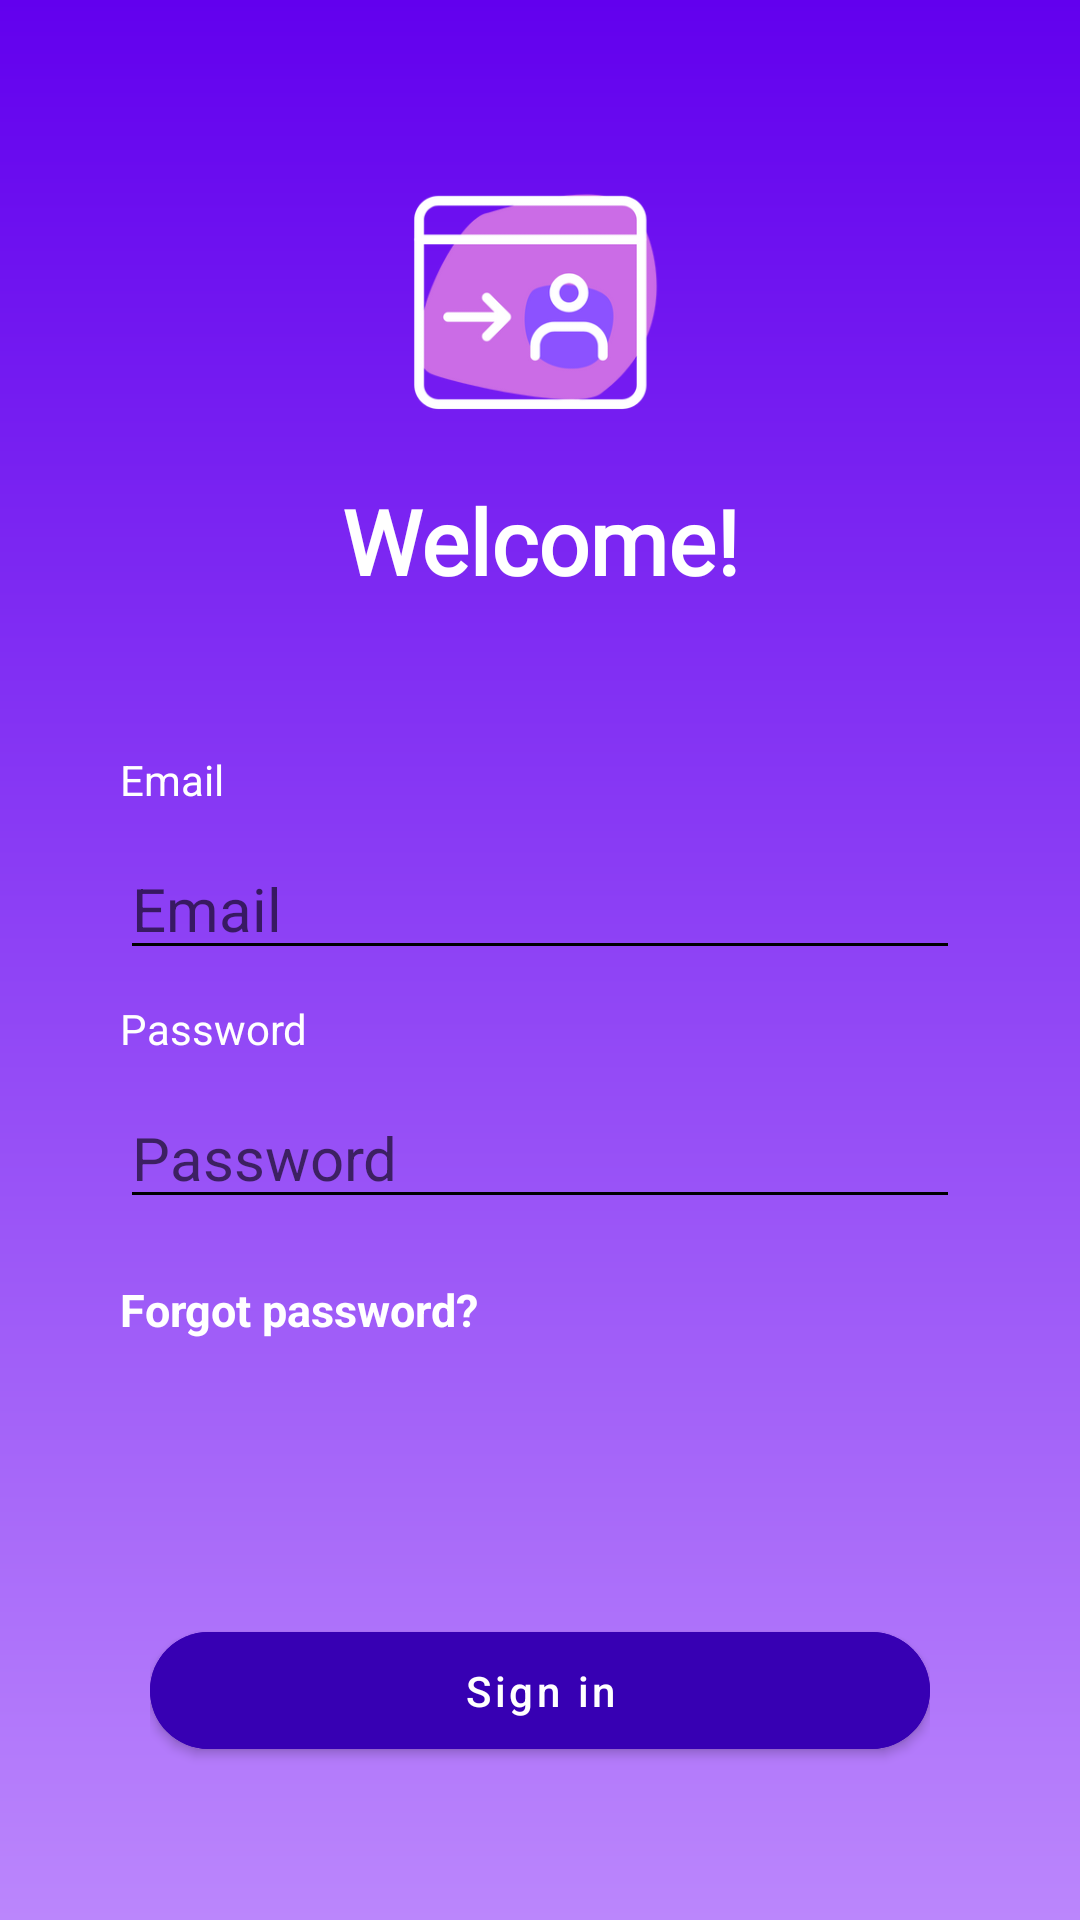

Point at icon controls on the screen. Image size 1080 × 1920, points as (x=x, y=y).
signin: (x=535, y=301)
